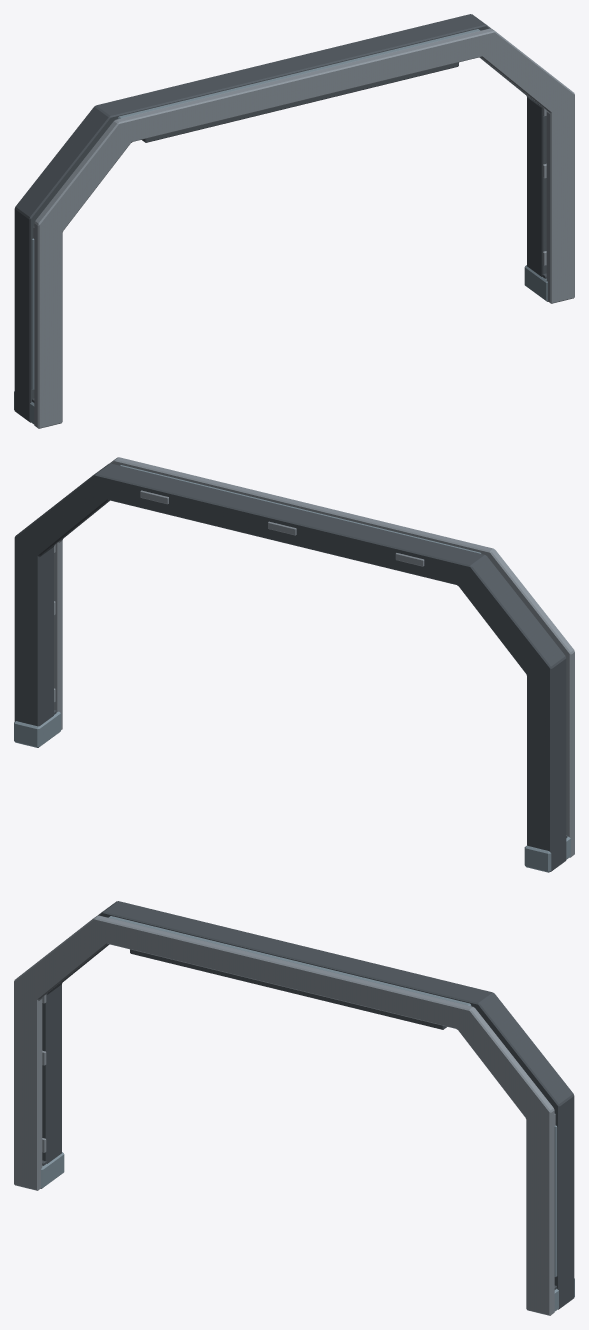
File: NA_GalleryPortal_G02_LOD1.fbx
3 renders of one model, top to bottom at view 1: azimuth 30°, elevation 25°; view 2: azimuth 150°, elevation 25°; view 3: azimuth 330°, elevation 25°, orthographic.
Visible parts, largest first — view 1: NA_GalleryPortal_G02_LOD1; view 2: NA_GalleryPortal_G02_LOD1; view 3: NA_GalleryPortal_G02_LOD1.
Part boxes in pixels (x1=…): NA_GalleryPortal_G02_LOD1: x1=14, y1=14, x2=574, y2=428; NA_GalleryPortal_G02_LOD1: x1=14, y1=457, x2=574, y2=872; NA_GalleryPortal_G02_LOD1: x1=14, y1=901, x2=574, y2=1315.
Bounding box in the file's own units: 30.3 × 15.47 × 2.51.
